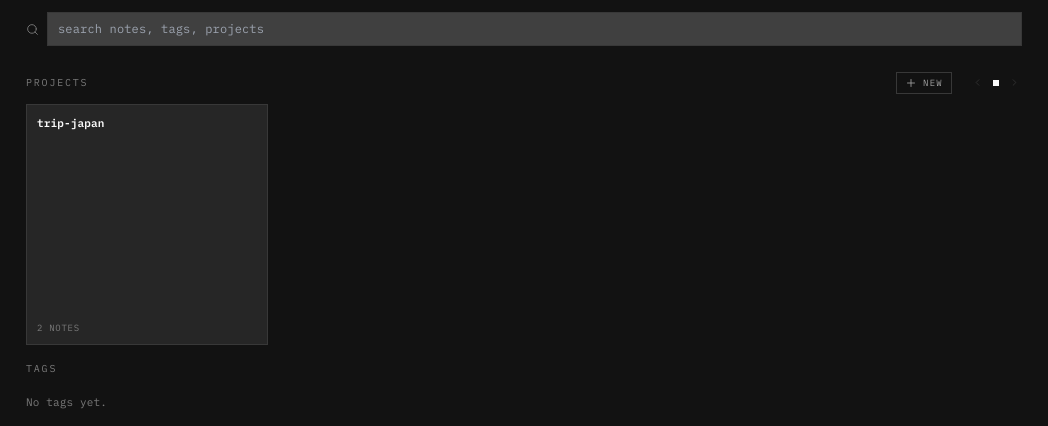
Test: BrowseView — Set description (ProjectsPane.tsx's 'saves as you type' textarea, lifted) › Set description reveals the textarea prefilled with the current description
Click the text "trip-japan".
click(71, 123)  # box left=37, top=114, right=105, bottom=131
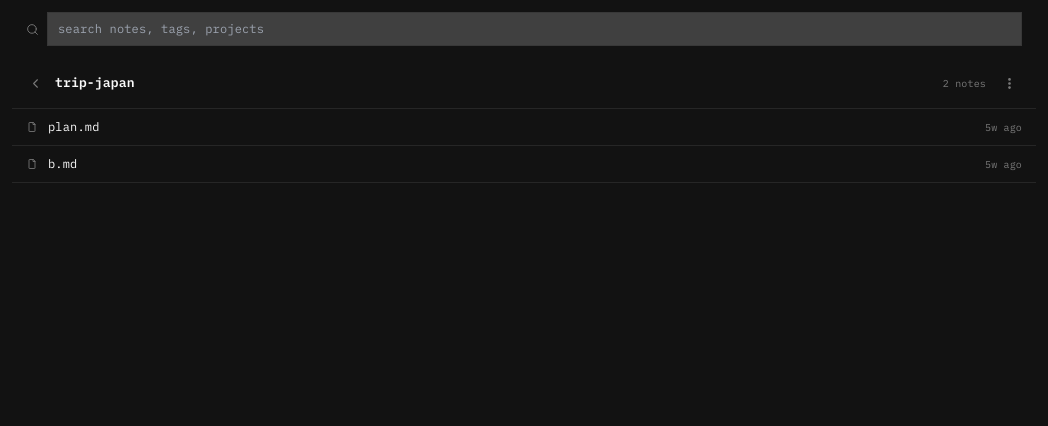
expect the heading "trip-japan" is shown: met, box left=55, top=73, right=135, bottom=93
expect the text "plan.md" is shown: met, box left=48, top=119, right=100, bottom=134
Click the button named "Project actions".
click(1009, 83)  # box left=996, top=70, right=1022, bottom=96
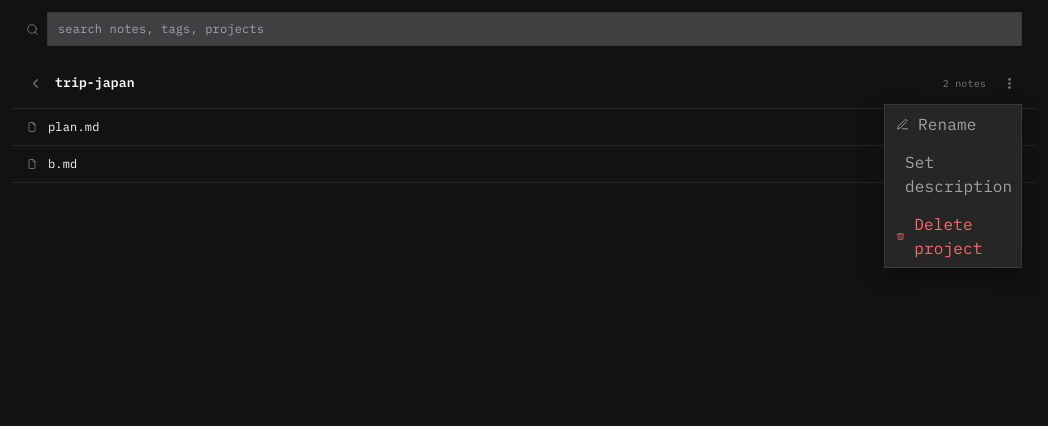
Click the menu item "Set description".
click(953, 174)  # box left=885, top=143, right=1021, bottom=205
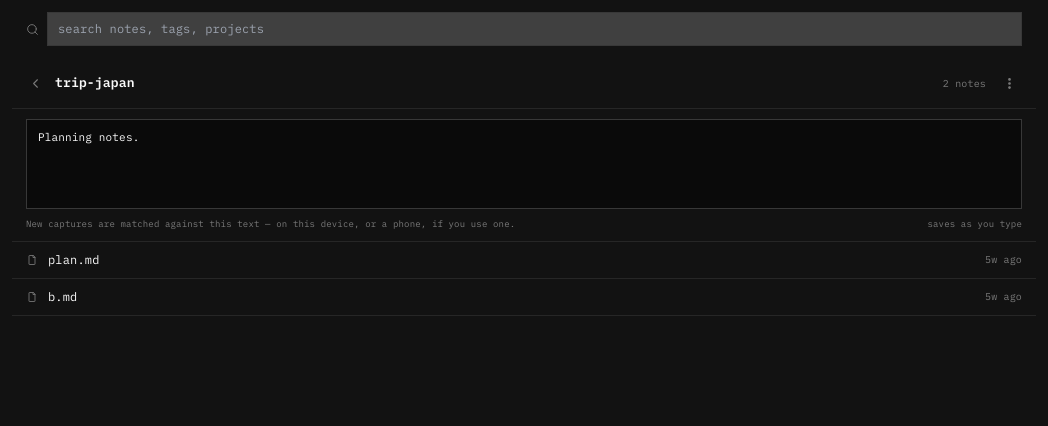
expect the text box named "Project description" holds "Planning notes.": met, box left=26, top=119, right=1022, bottom=209
